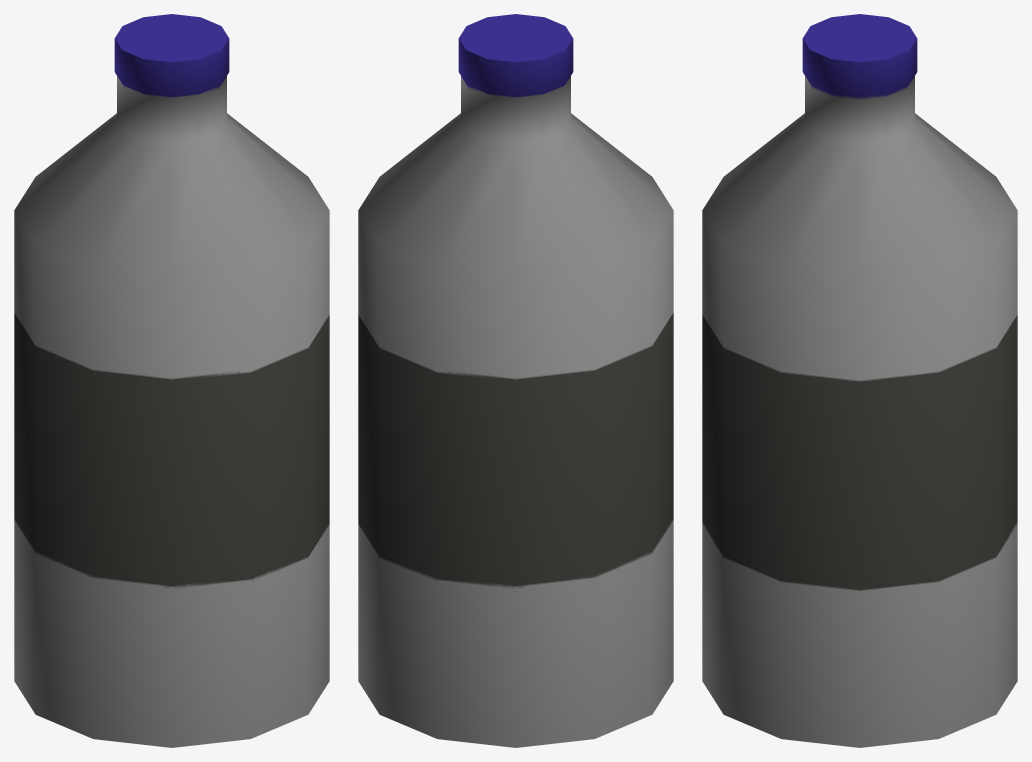
The model's file is bottle.fbx.
The picture shows the model from 3 angles, left to right: view 1: azimuth 30°, elevation 25°; view 2: azimuth 150°, elevation 25°; view 3: azimuth 270°, elevation 25°; orthographic projection.
Visible parts, largest first — view 1: bottle; view 2: bottle; view 3: bottle.
Boxes of the visible parts, bbox=[...] form: bottle: bbox=[14, 14, 329, 747]; bottle: bbox=[358, 14, 673, 747]; bottle: bbox=[702, 14, 1017, 747].
Bounding box in the file's own units: 0.647 × 1.46 × 0.647.
